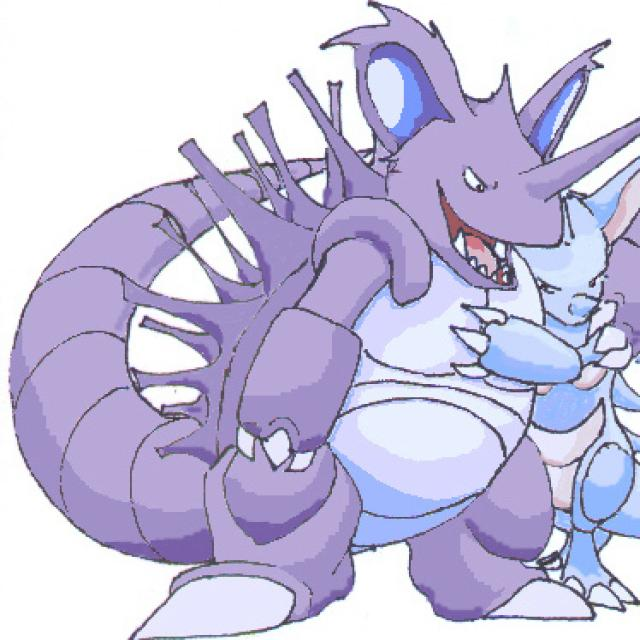Nidoking: (32, 32, 553, 640)
